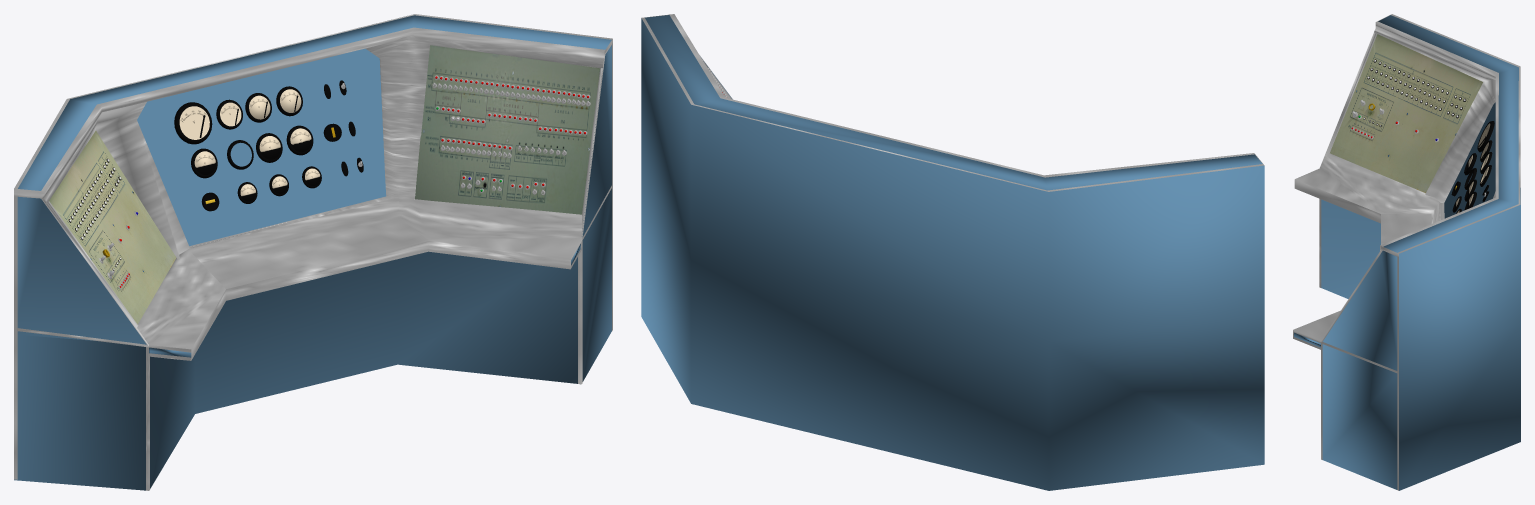
3 views of the same model, side by side, from view 1: azimuth 30°, elevation 25°; view 2: azimuth 150°, elevation 25°; view 3: azimuth 270°, elevation 25° (orthographic). The views are drawn at different scales.
Visible parts, largest first — view 1: Blue_Plastic-material (×2), Metal_Part-material, Right_Screen-material, Left_Screen-material, Voltmetru-material; view 2: Blue_Plastic-material, Metal_Part-material; view 3: Blue_Plastic-material (×2), Metal_Part-material, Left_Screen-material.
Boxes of the visible parts, left/top/right/bottom form: Blue_Plastic-material (×2): left=14, top=15, right=611, bottom=490; Metal_Part-material: left=14, top=14, right=612, bottom=490; Right_Screen-material: left=414, top=45, right=600, bottom=214; Left_Screen-material: left=49, top=131, right=176, bottom=324; Voltmetru-material: left=179, top=106, right=209, bottom=139; Blue_Plastic-material: left=641, top=15, right=1264, bottom=490; Metal_Part-material: left=641, top=14, right=1264, bottom=191; Blue_Plastic-material (×2): left=1294, top=15, right=1520, bottom=490; Metal_Part-material: left=1293, top=14, right=1520, bottom=490; Left_Screen-material: left=1330, top=34, right=1482, bottom=193.
Size of the model in its own units: 9.03 by 4.17 by 3.63.
Materials: 13 (6 with a texture image).
